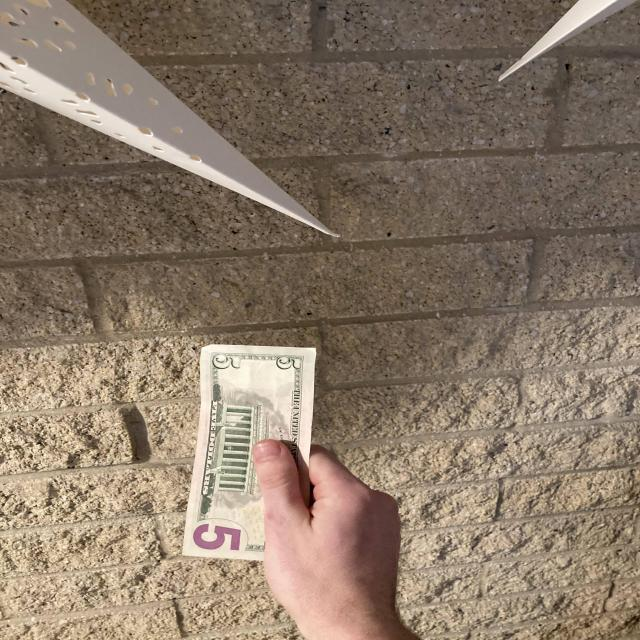five: (181, 343, 319, 562)
